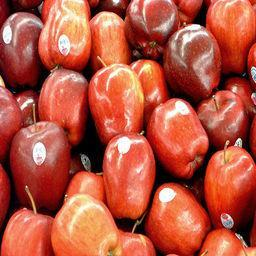apple: (8, 121, 71, 208), (146, 99, 208, 177), (101, 132, 156, 218), (205, 145, 256, 232), (146, 184, 211, 252), (88, 64, 144, 142), (163, 27, 219, 104), (51, 193, 119, 256), (206, 2, 253, 88), (38, 70, 89, 144), (37, 1, 91, 70), (1, 10, 44, 89), (124, 1, 178, 57), (197, 90, 250, 147), (89, 11, 132, 73), (1, 207, 53, 256), (196, 229, 248, 256), (173, 1, 203, 24)
